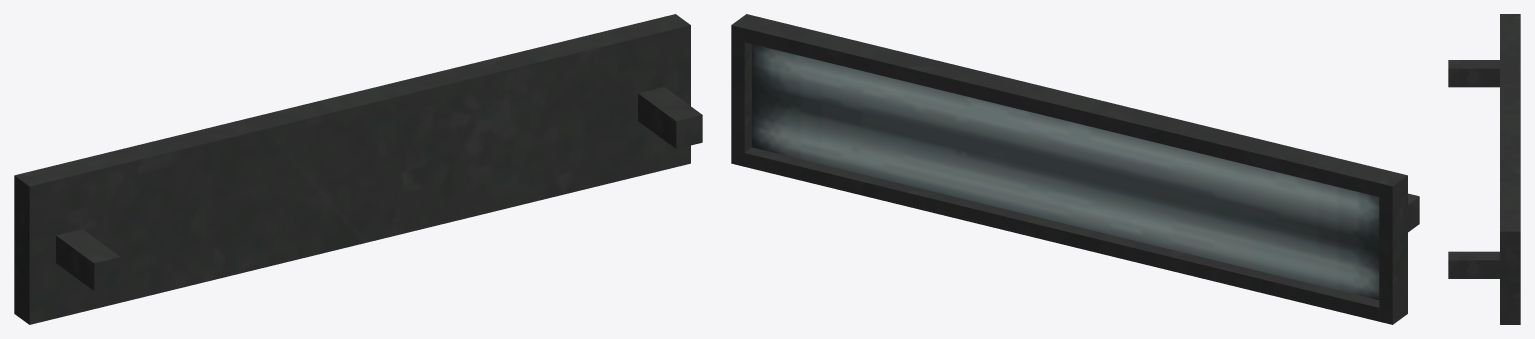
Rendered from light_GOOD.vmf.obj.
3 renders of one model, left to right at view 1: azimuth 30°, elevation 25°; view 2: azimuth 150°, elevation 25°; view 3: azimuth 270°, elevation 25°, orthographic. The views are drawn at different scales.
Visible parts, largest first — view 1: 5, 4, 7, 8, 6; view 2: 5, 4, 3, 6, 2; view 3: 5, 4, 7, 8, 2, 3.
Part boxes in pixels (x1,y1,x2,y2): 5: (22,19,690,324); 4: (14,14,682,194); 7: (56,229,120,290); 8: (638,87,702,148); 6: (14,189,21,305); 5: (739,14,1407,318); 4: (731,19,1400,200); 3: (731,147,1400,324); 6: (1379,195,1400,310); 2: (731,39,751,152); 5: (1500,14,1510,324); 4: (1510,14,1520,240); 7: (1448,60,1499,87); 8: (1448,251,1499,278); 2: (1510,241,1520,315); 3: (1510,315,1520,324).
Bounding box in the file's own units: 50 × 10 × 7.
Materials: 2 (2 with a texture image).
